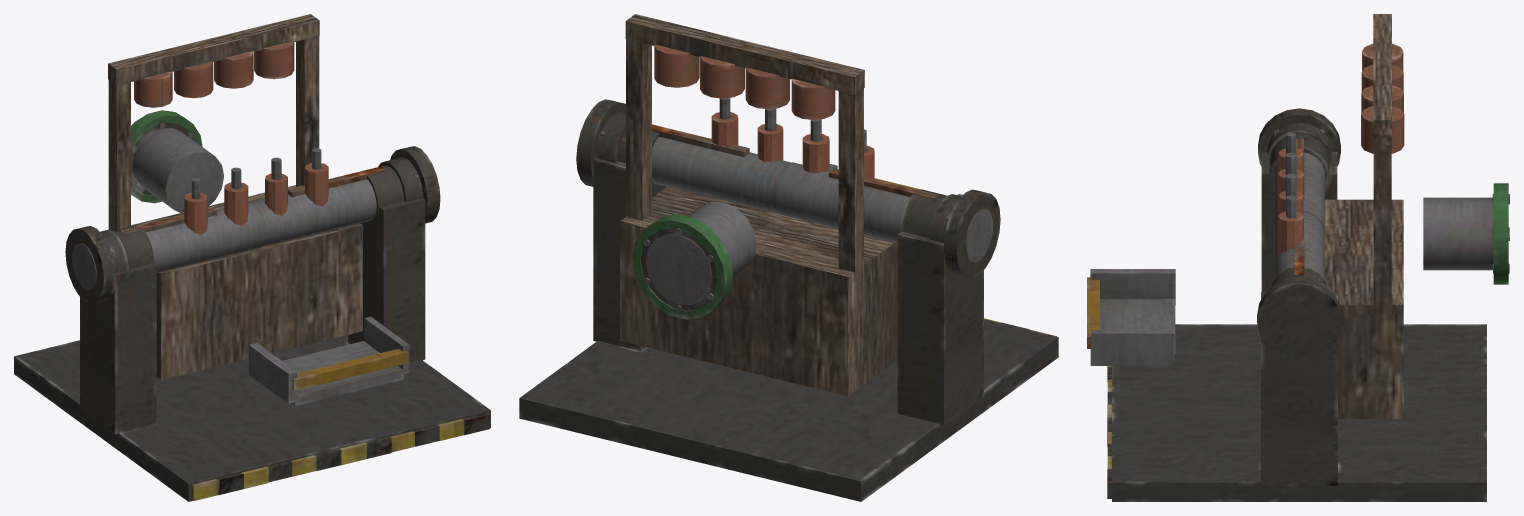
File: feSpinner.glb
3 renders of one model, left to right at view 1: azimuth 30°, elevation 25°; view 2: azimuth 150°, elevation 25°; view 3: azimuth 270°, elevation 25°, orthographic. The views are drawn at different scales.
Visible parts, largest first — view 1: feSpinner_Base, FeSpin_DriveShaft, FeSpin_x6_Spindle1, FeSpin_x6_Spindle3, FeSpin_x6_Spindle0, FeSpin_x6_Spindle2; view 2: feSpinner_Base, FeSpin_DriveShaft, FeSpin_x6_Spindle1, FeSpin_x6_Spindle2, FeSpin_x6_Spindle3; view 3: feSpinner_Base, FeSpin_DriveShaft, FeSpin_x6_Spindle3, FeSpin_x6_Spindle1, FeSpin_x6_Spindle2, FeSpin_x6_Spindle0.
Boxes of the visible parts, x1=… form: feSpinner_Base: x1=14, y1=14, x2=490, y2=501; FeSpin_DriveShaft: x1=65, y1=146, x2=440, y2=303; FeSpin_x6_Spindle1: x1=224, y1=167, x2=248, y2=225; FeSpin_x6_Spindle3: x1=305, y1=148, x2=328, y2=206; FeSpin_x6_Spindle0: x1=184, y1=178, x2=207, y2=234; FeSpin_x6_Spindle2: x1=265, y1=157, x2=287, y2=215; feSpinner_Base: x1=519, y1=14, x2=1058, y2=501; FeSpin_DriveShaft: x1=576, y1=99, x2=1000, y2=277; FeSpin_x6_Spindle1: x1=802, y1=119, x2=829, y2=172; FeSpin_x6_Spindle2: x1=757, y1=108, x2=783, y2=161; FeSpin_x6_Spindle3: x1=711, y1=97, x2=738, y2=145; feSpinner_Base: x1=1087, y1=14, x2=1509, y2=501; FeSpin_DriveShaft: x1=1257, y1=108, x2=1341, y2=360; FeSpin_x6_Spindle3: x1=1278, y1=195, x2=1303, y2=253; FeSpin_x6_Spindle1: x1=1278, y1=153, x2=1304, y2=210; FeSpin_x6_Spindle2: x1=1278, y1=173, x2=1303, y2=214; FeSpin_x6_Spindle0: x1=1278, y1=132, x2=1303, y2=172.
Size of the model in its own units: 1 by 0.943 by 1.02.
1 material, 1 textured.
